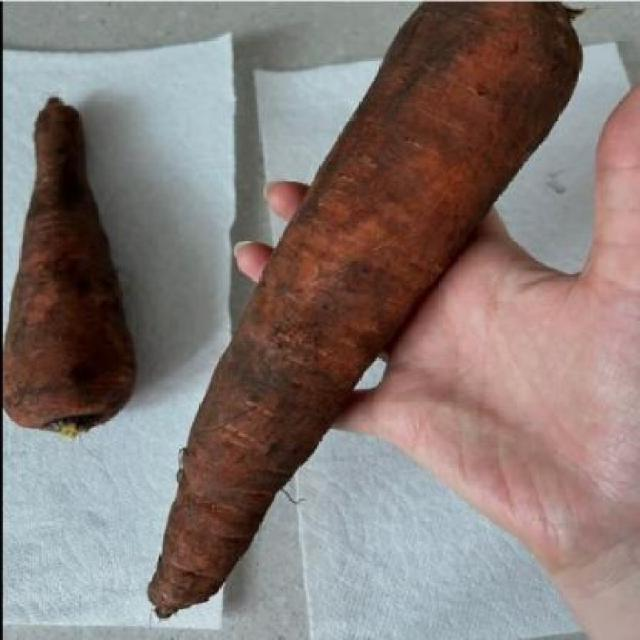carrot: (141, 1, 583, 618), (1, 93, 141, 438)
